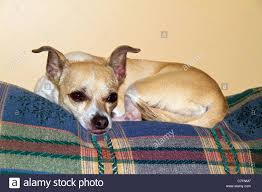chihuahua: (32, 44, 230, 136)
